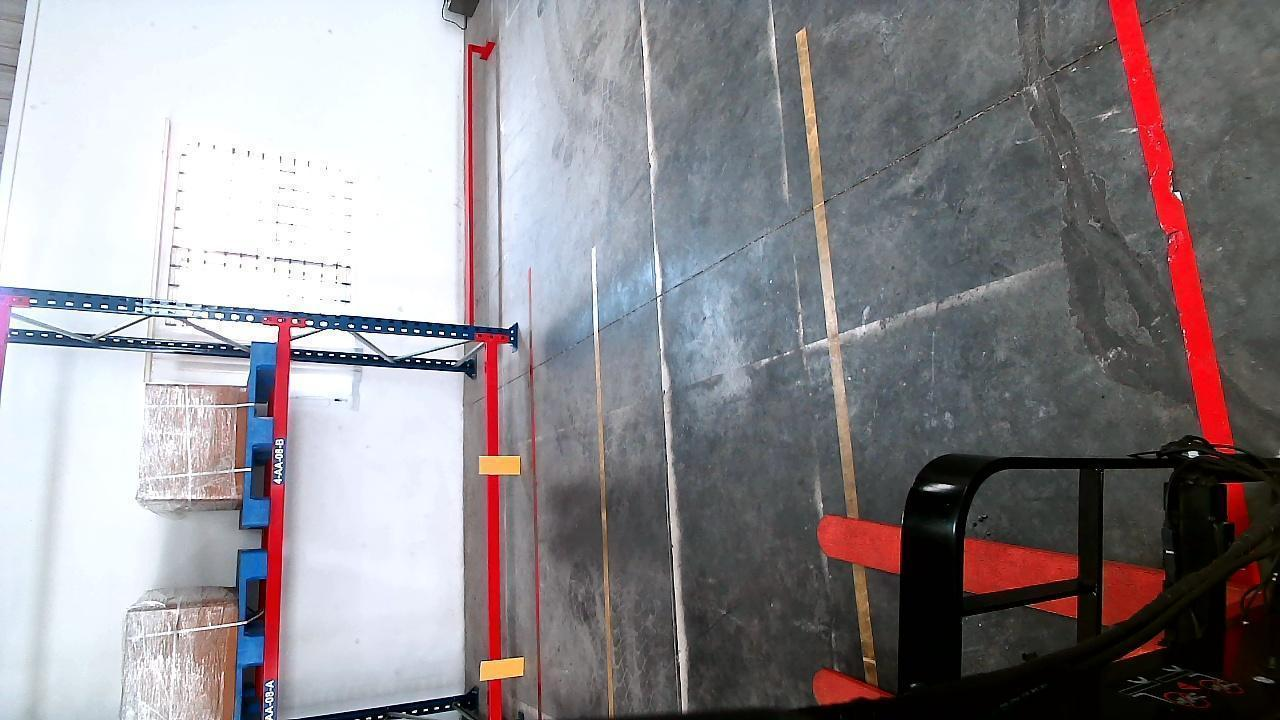red_line: (1104, 0, 1249, 461)
yellow_line: (792, 29, 878, 690), (592, 248, 618, 715)
